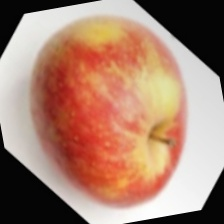apple: (4, 16, 197, 209)
